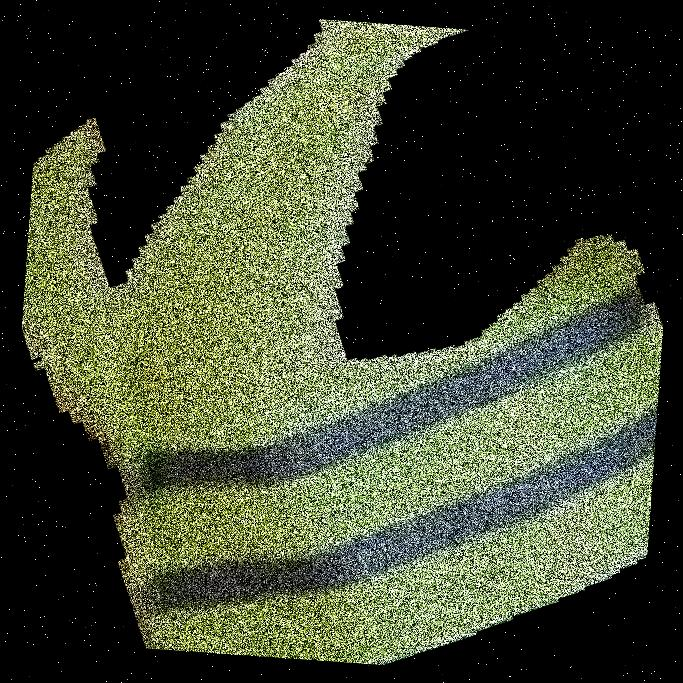Colete: (164, 0, 408, 682)
